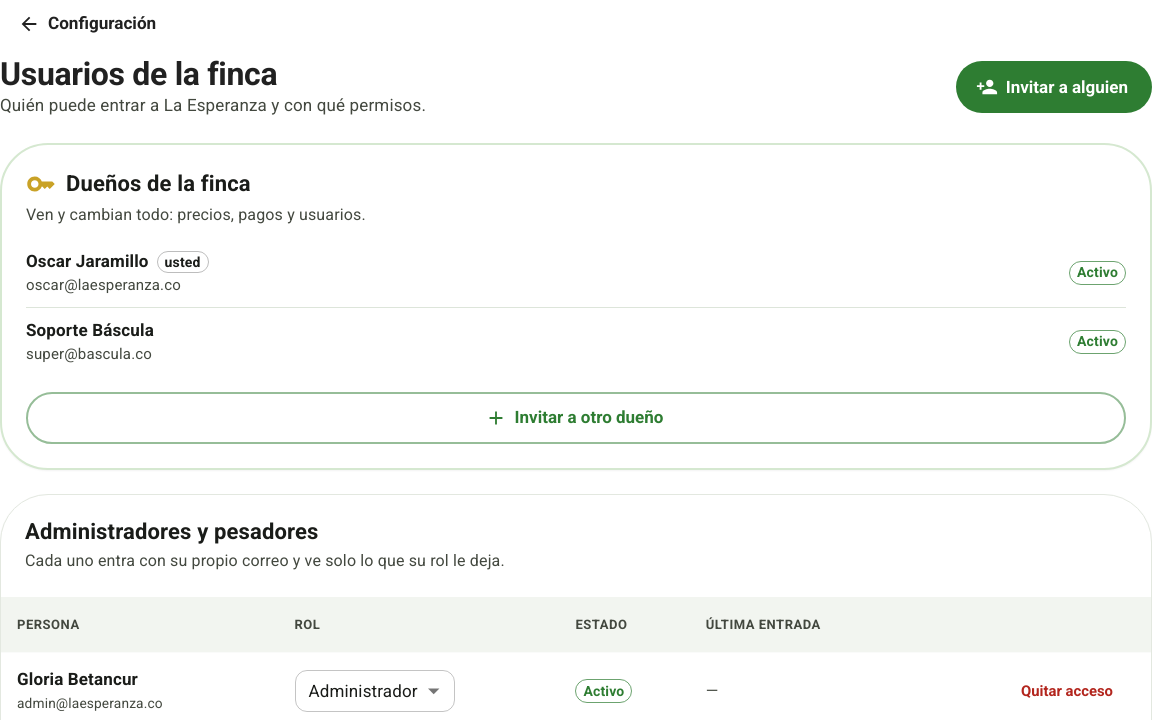
Scenario: inviting somebody › does not close itself over the password
Expected: the text "Gloria Betancur" is shown, x1=17 y1=669 x2=138 y2=689
Click the button "Invitar a alguien".
click(1054, 87)  # box x1=956 y1=61 x2=1151 y2=113
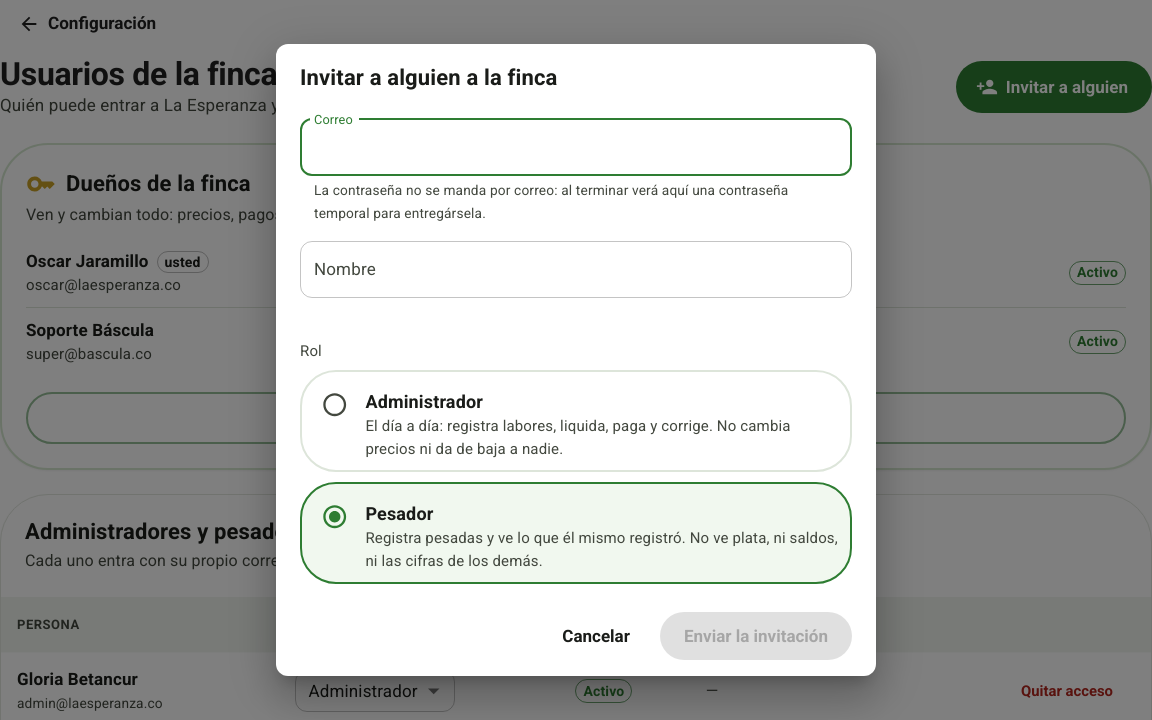
Expected: the text "La contraseña no se manda por correo" is shown, x1=314 y1=182 x2=788 y2=221
Type "otra@laesperanza.co" into the field labelled "Correo".
click(576, 148); type("otra@laesperanza.co")  # box x1=300 y1=119 x2=852 y2=176
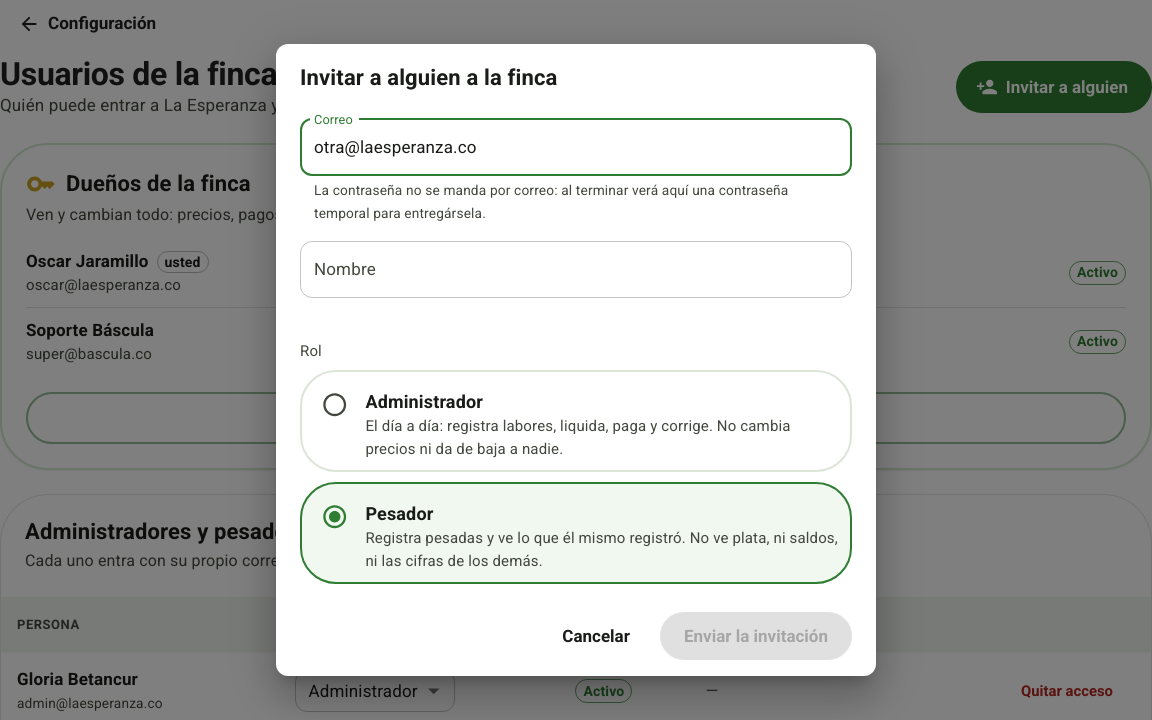
Type "Otra Persona" into the field labelled "Nombre".
click(576, 269); type("Otra Persona")  # box x1=300 y1=241 x2=852 y2=298
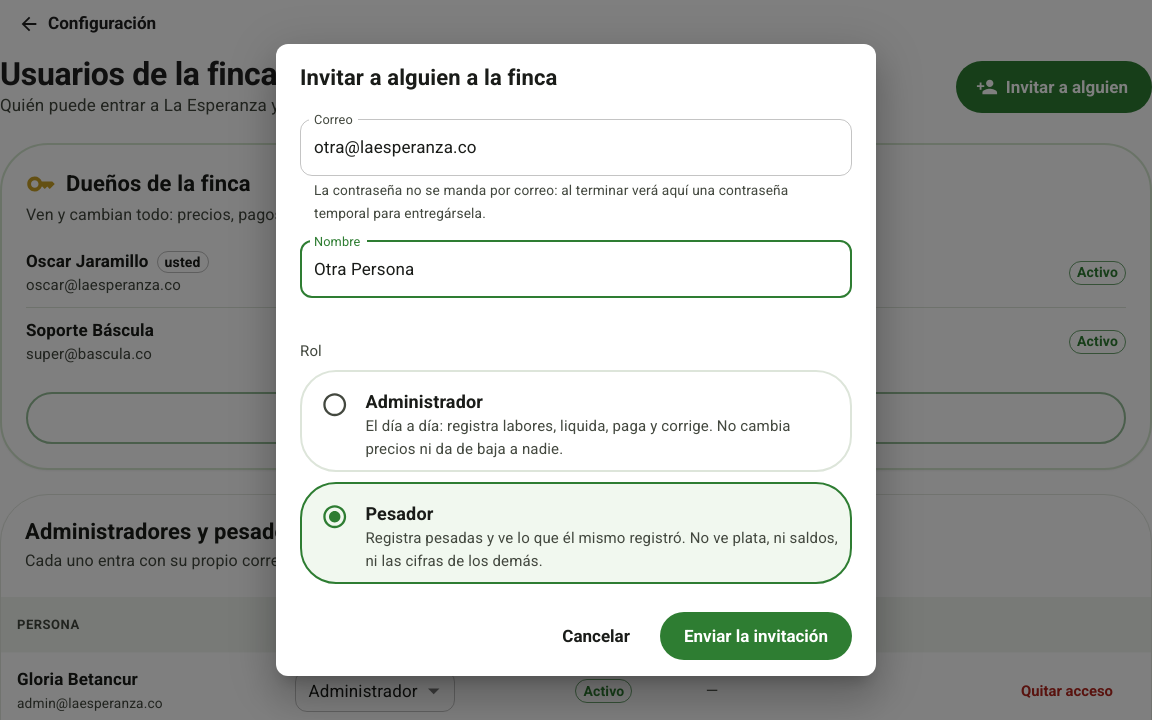
Click the button "Enviar la invitación".
click(756, 636)  # box x1=660 y1=612 x2=852 y2=660
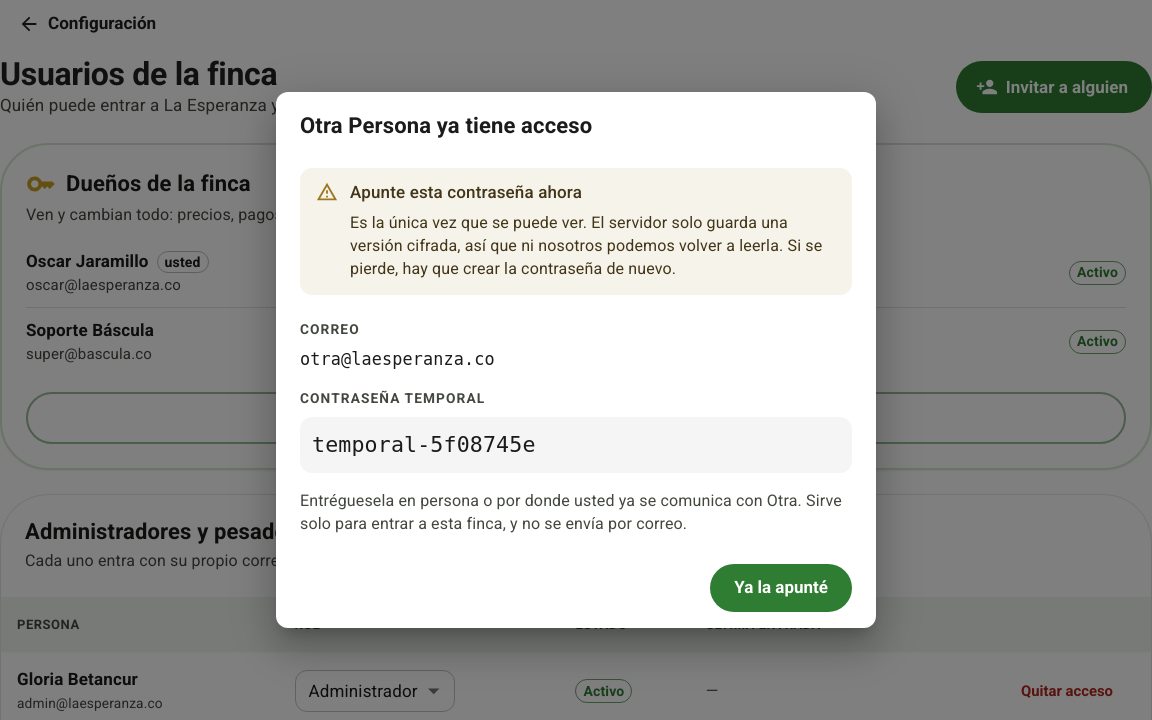
Expected: the text "temporal-5f08745e" is shown, x1=300 y1=417 x2=852 y2=473
